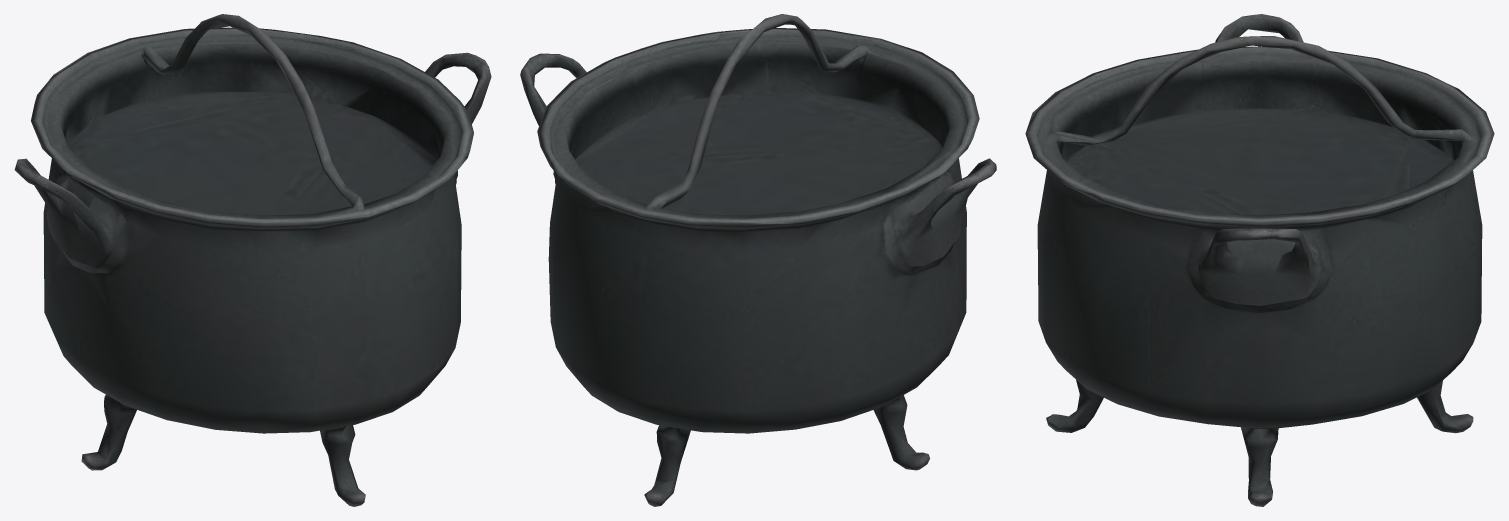
File: cauldron.glb
3 renders of one model, left to right at view 1: azimuth 30°, elevation 25°; view 2: azimuth 150°, elevation 25°; view 3: azimuth 270°, elevation 25°, orthographic. The views are drawn at different scales.
Parts seen in each view (by area): view 1: cauldron; view 2: cauldron; view 3: cauldron.
Part boxes in pixels (x1,y1,x2,y2): cauldron: [14, 14, 491, 506]; cauldron: [520, 14, 996, 506]; cauldron: [1025, 14, 1494, 506].
Size of the model in its own units: 0.5 by 0.42 by 0.4512.
Materials: 1 (1 with a texture image).
